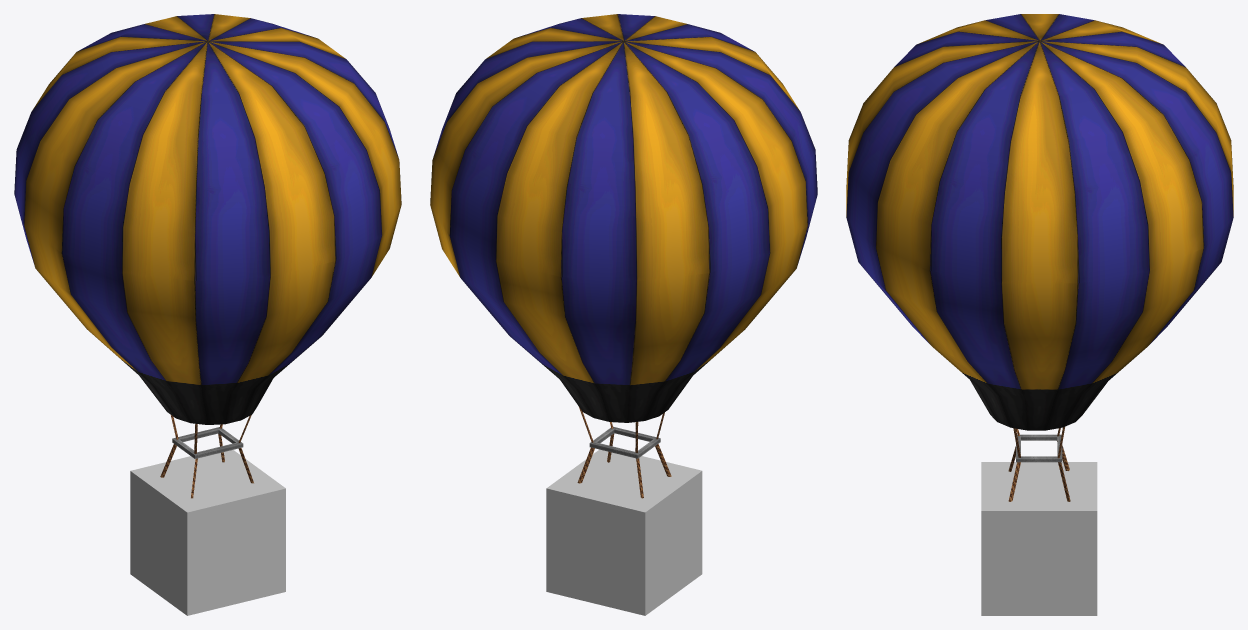
File: objekat2.obj
3 views of the same model, side by side, from view 1: azimuth 30°, elevation 25°; view 2: azimuth 150°, elevation 25°; view 3: azimuth 270°, elevation 25° (orthographic).
Visible parts, largest first — view 1: ball_baloon_0, Cube; view 2: ball_baloon_0, Cube; view 3: ball_baloon_0, Cube.
Part boxes in pixels (x1,y1,x2,y2): ball_baloon_0: [14, 14, 401, 498]; Cube: [130, 450, 285, 615]; ball_baloon_0: [430, 14, 817, 498]; Cube: [546, 449, 702, 615]; ball_baloon_0: [846, 14, 1233, 501]; Cube: [981, 462, 1097, 615].
Bounding box in the file's own units: 6.68 × 10.47 × 6.68.
